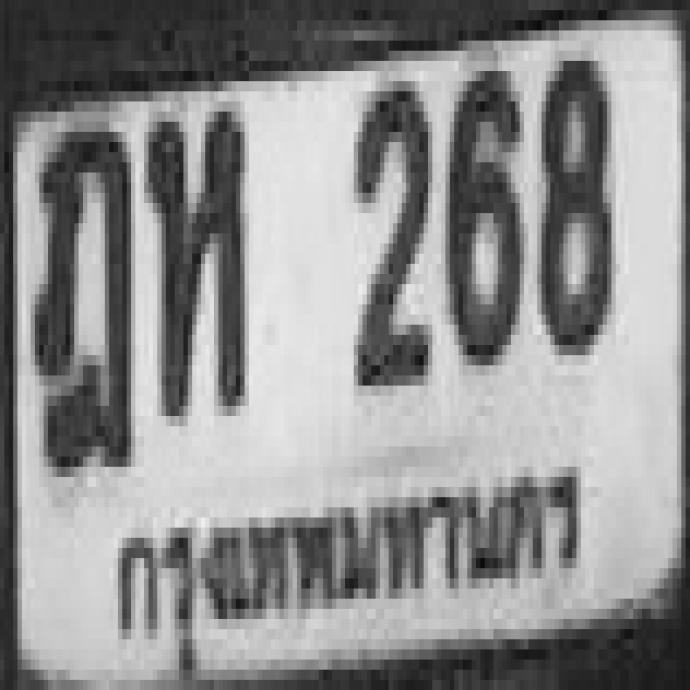2: (350, 74, 425, 380)
6: (442, 61, 516, 356)
8: (536, 49, 608, 345)
A14: (29, 118, 129, 465)
A41: (143, 106, 242, 411)
BKK: (105, 449, 592, 641)
